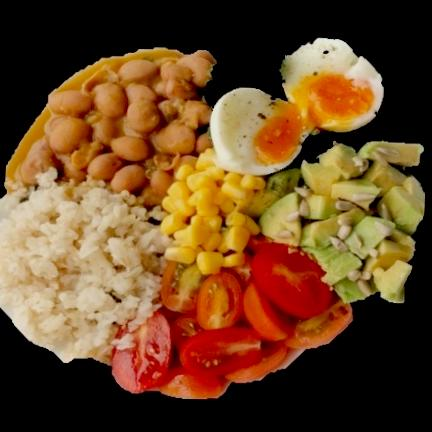beans: (5, 49, 214, 206)
corn: (160, 149, 264, 274)
egg: (209, 39, 382, 175)
green_vegetables: (257, 141, 424, 303)
rice: (0, 170, 170, 363)
tomato: (111, 236, 351, 397)
